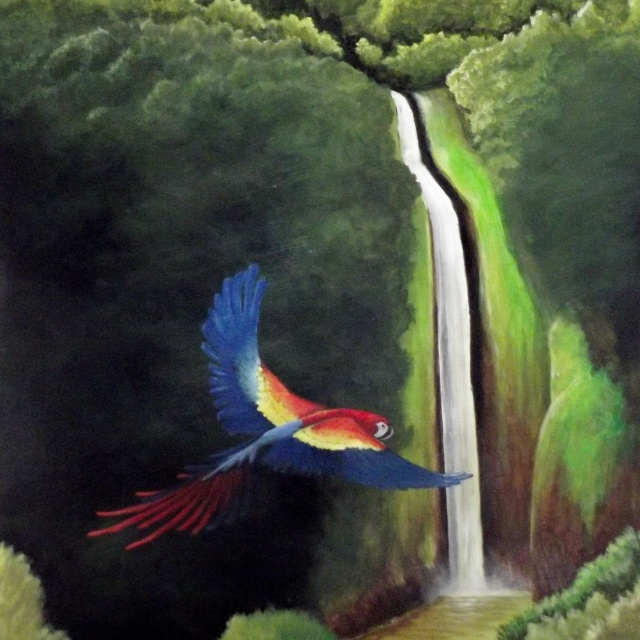Parrot: (90, 265, 480, 550)
